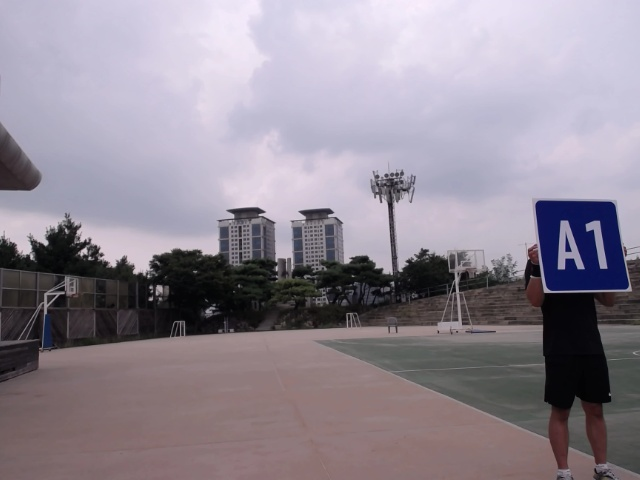delivery_a1: (534, 199, 630, 292)
